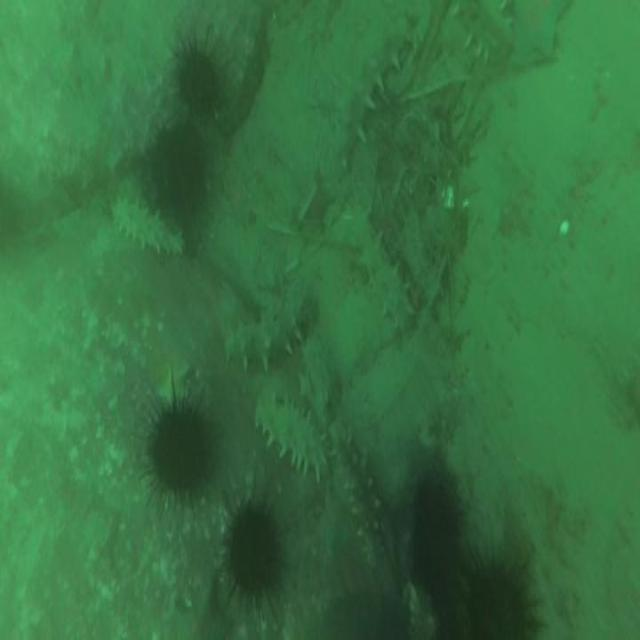echinus: (413, 477, 463, 596), (148, 400, 209, 494), (152, 130, 209, 220), (231, 507, 282, 596), (469, 562, 526, 640), (180, 44, 218, 116)
holothurian: (329, 24, 412, 175), (331, 422, 386, 570), (351, 210, 408, 326), (255, 397, 326, 482), (111, 199, 184, 259), (225, 324, 293, 374)
starfish: (512, 1, 573, 64)
